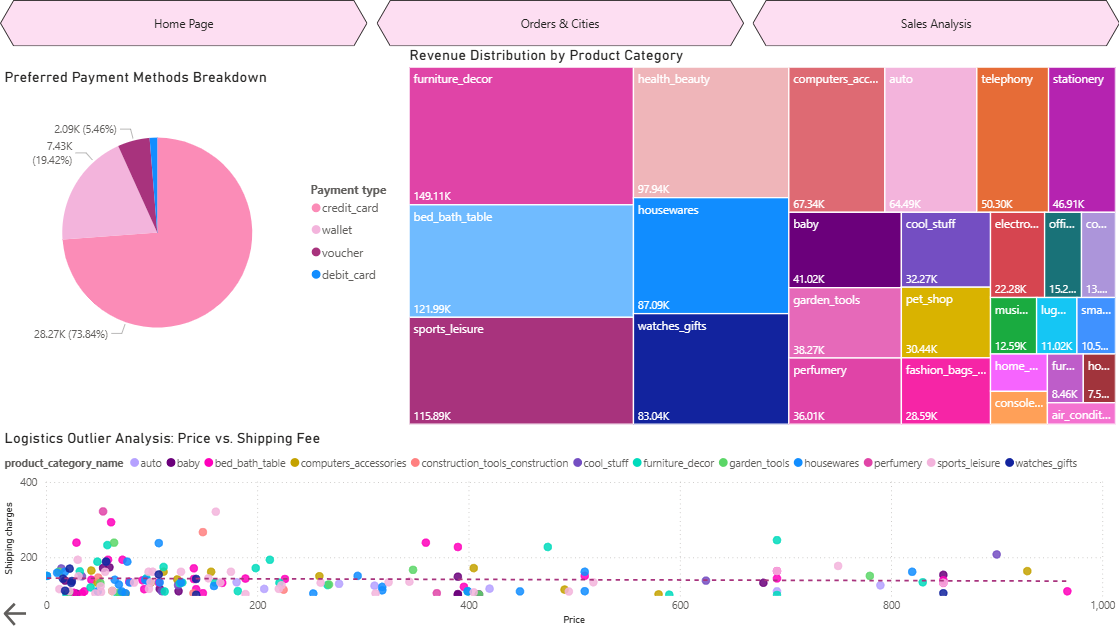

This screenshot's page, from the dashboard's own definition file:
{"tool":"powerbi","page":{"name":"Payments & Logistics","canvas":[1280,720],"ordinal":3},"visuals":[{"type":"pieChart","title":"Preferred Payment Methods Breakdown","fields":{"Category":["df_Payments.payment_type"],"Y":["CountNonNull(df_Orders.order_id)"]},"box":[0,77.1,462.9,358.6],"z":0},{"type":"scatterChart","title":"Logistics Outlier Analysis: Price vs. Shipping Fee","fields":{"X":["df_OrderItems.price"],"Y":["df_OrderItems.shipping_charges"],"Series":["df_Products.product_category_name"]},"box":[0,490,1280,230],"z":1000},{"type":"treemap","title":"Revenue Distribution by Product Category","fields":{"Group":["df_Products.product_category_name"],"Values":["Sum(df_OrderItems.price)"]},"box":[462.9,52.9,817.1,437.1],"z":2000},{"type":"pageNavigator","box":[0,0,1280,53.3],"z":3000},{"type":"actionButton","box":[0,684.8,40.4,35.5],"z":4000}]}

Visuals, with their boxes in screenshot pixels (x1, y1, x2, y2), scaled from the page's 1280x720 canvas onto the 1119x629 screenshot:
"Preferred Payment Methods Breakdown" pieChart: region(0, 67, 405, 381)
"Logistics Outlier Analysis: Price vs. Shipping Fee" scatterChart: region(0, 428, 1118, 628)
"Revenue Distribution by Product Category" treemap: region(405, 46, 1118, 428)
pageNavigator: region(0, 0, 1118, 47)
actionButton: region(0, 598, 35, 628)
